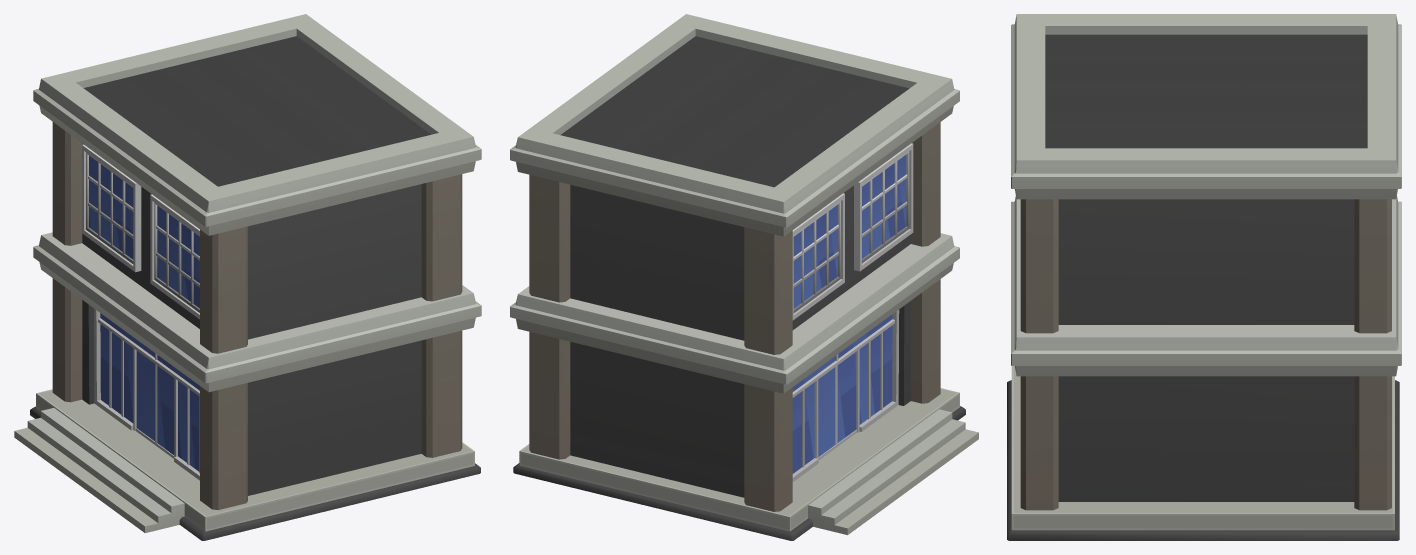
Rendered from Building_9_2_LL.glb.
3 views of the same model, side by side, from view 1: azimuth 30°, elevation 25°; view 2: azimuth 150°, elevation 25°; view 3: azimuth 270°, elevation 25° (orthographic). The views are drawn at different scales.
Visible parts, largest first — view 1: Building_9_2_LL; view 2: Building_9_2_LL; view 3: Building_9_2_LL.
Boxes of the visible parts, x1,y1,x2,y2 form: Building_9_2_LL: (14, 14, 481, 540); Building_9_2_LL: (510, 14, 978, 540); Building_9_2_LL: (1007, 14, 1401, 540).
Bounding box in the file's own units: 9.47 × 9.58 × 9.06.
Materials: 3 (3 with a texture image).
